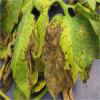Tomato Septoria leaf spot: (43, 13, 99, 99), (11, 7, 37, 96)
